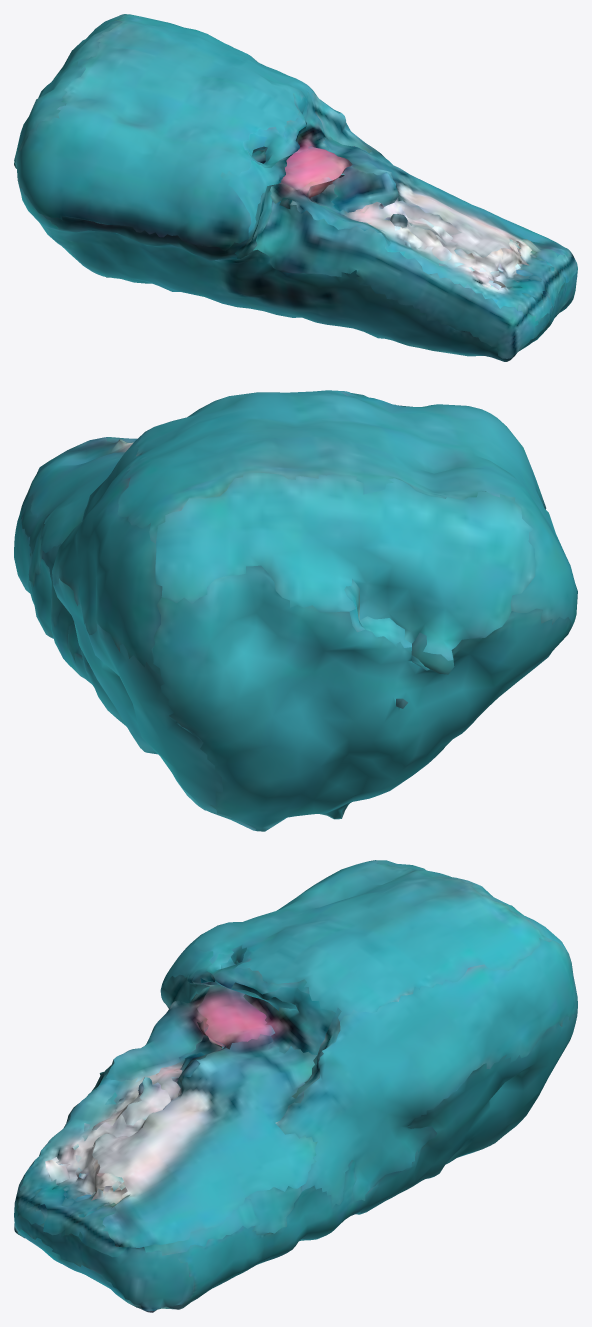
Rendered from 2_telephone.glb.
The picture shows the model from 3 angles, top to bottom: view 1: azimuth 30°, elevation 25°; view 2: azimuth 150°, elevation 25°; view 3: azimuth 270°, elevation 25°; orthographic projection. The views are drawn at different scales.
Visible parts, largest first — view 1: 2_telephone; view 2: 2_telephone; view 3: 2_telephone.
Part boxes in pixels (x1,y1,x2,y2): 2_telephone: [14, 14, 577, 361]; 2_telephone: [14, 390, 577, 831]; 2_telephone: [14, 860, 577, 1312].
Bounding box in the file's own units: 0.4635 × 0.2468 × 0.4673.
Materials: 1 (1 with a texture image).
